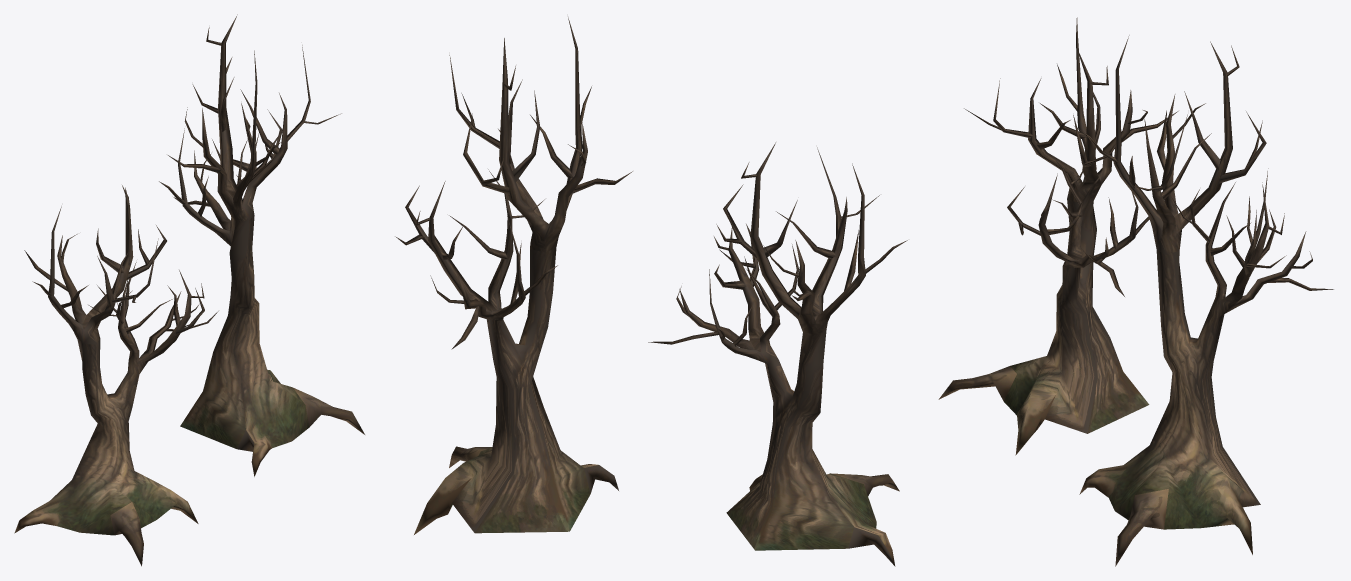
File: plants_tall_tree_trunks211.fbx
3 views of the same model, side by side, from view 1: azimuth 30°, elevation 25°; view 2: azimuth 150°, elevation 25°; view 3: azimuth 270°, elevation 25° (orthographic). The views are drawn at different scales.
Visible parts, largest first — view 1: Material_#238683193/fancy_tree; view 2: Material_#238683193/fancy_tree; view 3: Material_#238683193/fancy_tree.
Boxes of the visible parts, box(x1,y1,x2,y2) form: Material_#238683193/fancy_tree: box(14, 14, 364, 566); Material_#238683193/fancy_tree: box(395, 17, 907, 566); Material_#238683193/fancy_tree: box(938, 17, 1333, 566).
Size of the model in its own units: 8.48 by 9.38 by 6.99.
